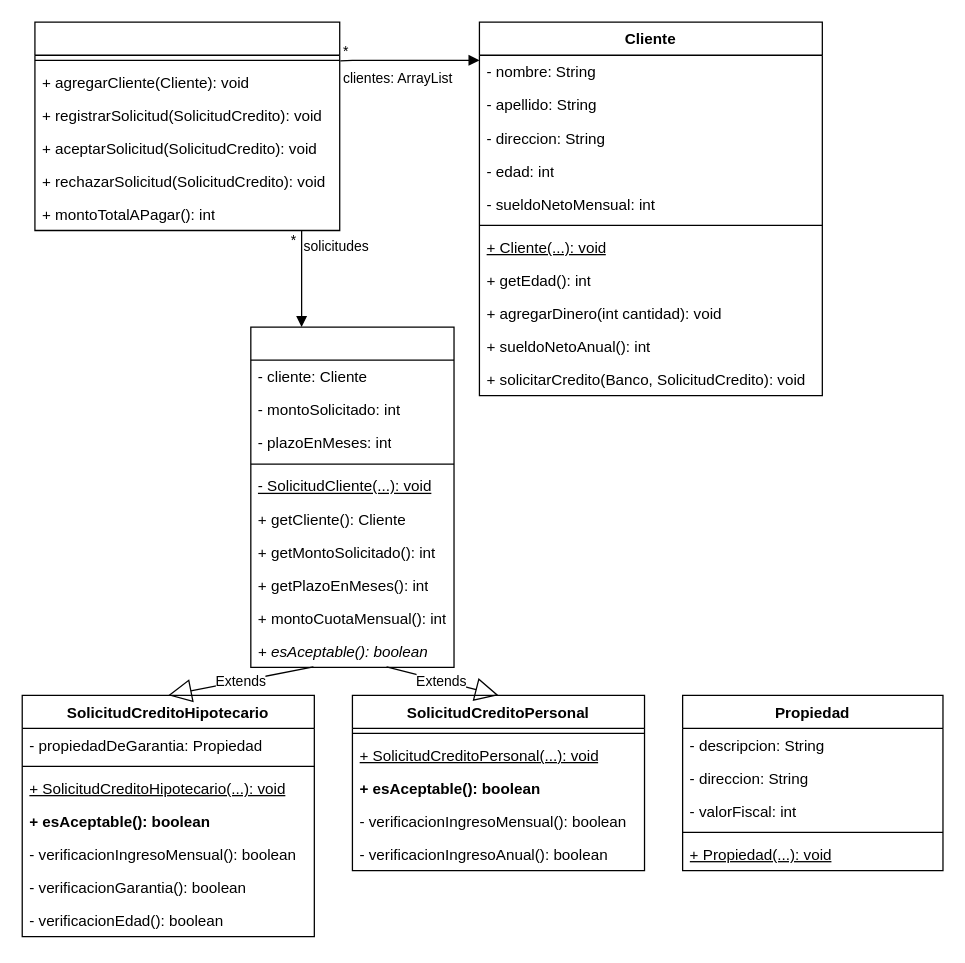
Image size: 965x963. Some labels were removed from this diagram. The shapes that lost their labels are listed below. From the top down, each one's box as (x1, y1, x2, y2) in pixels, then its label:
(34, 21, 340, 231): Banco
(250, 326, 454, 667): SolicitudCredito
